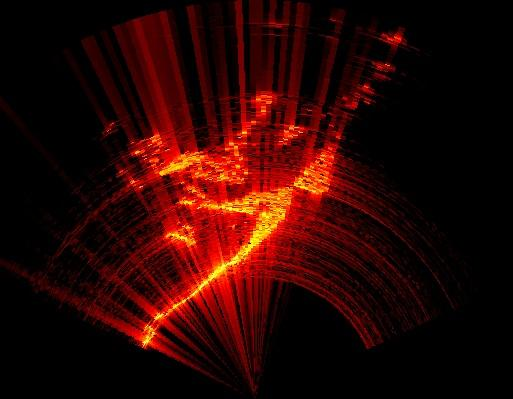shipwreck: (145, 142, 341, 346), (126, 91, 272, 188), (167, 234, 193, 245)
